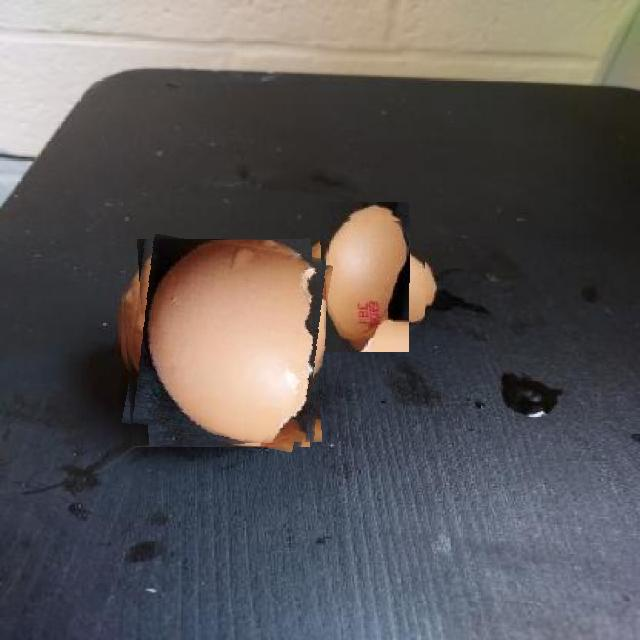biodegradable: (120, 240, 326, 446), (304, 216, 425, 338)
